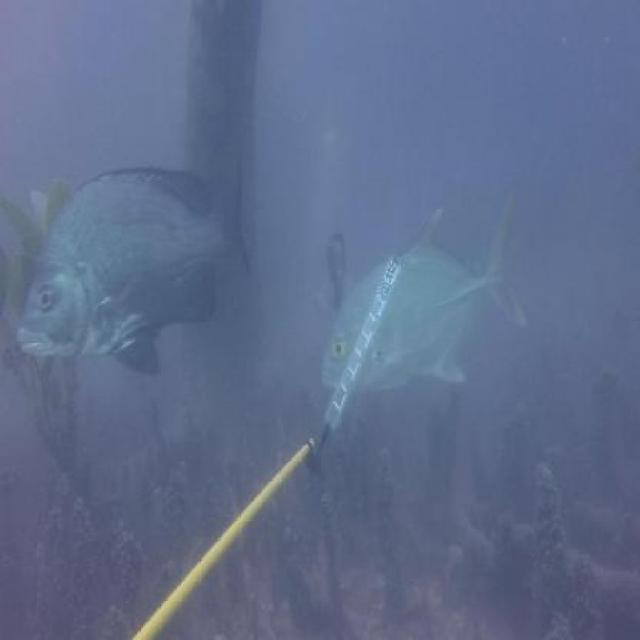Caranx: (322, 199, 529, 393)
acanthopagrus_palmaris: (16, 152, 252, 376), (325, 225, 350, 306)
